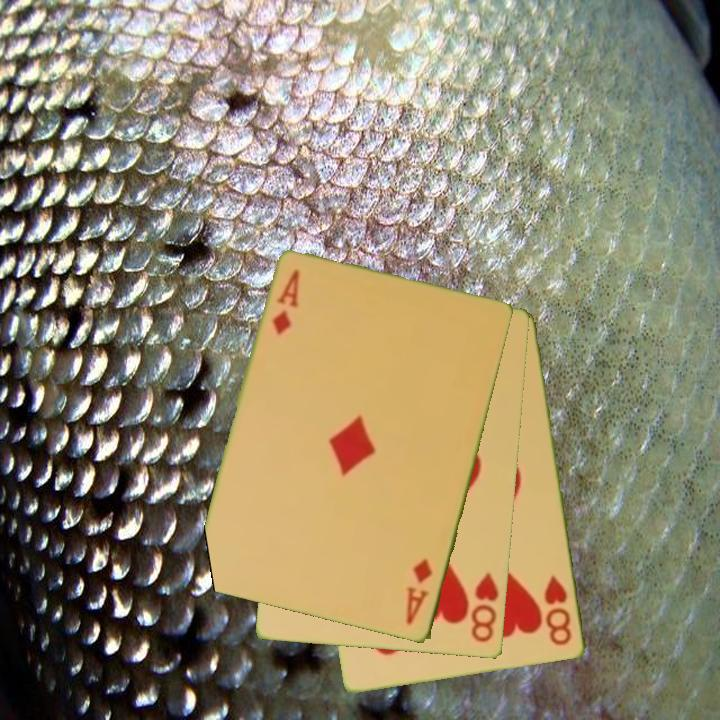8h: (541, 572, 575, 649), (468, 569, 502, 646)
Ad: (269, 266, 303, 339), (403, 556, 436, 629)
